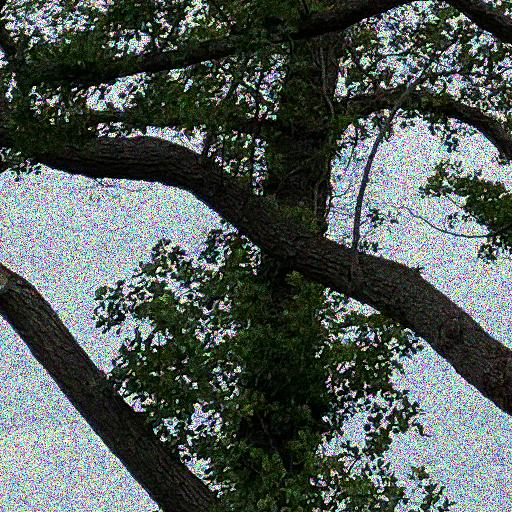tree: (1, 1, 512, 512), (90, 1, 457, 512)
